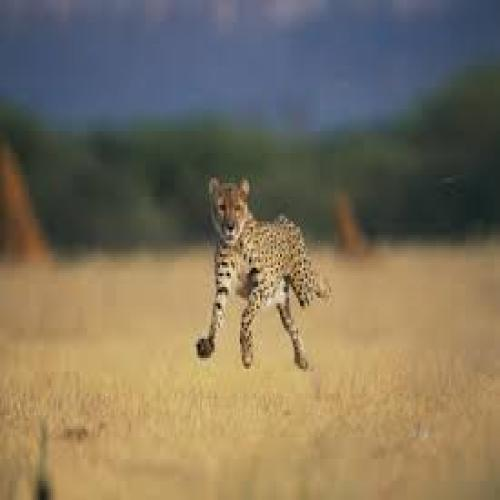cheetah-endangered: (195, 169, 339, 388)
